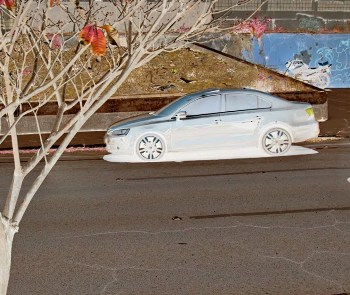car: (100, 82, 324, 167)
